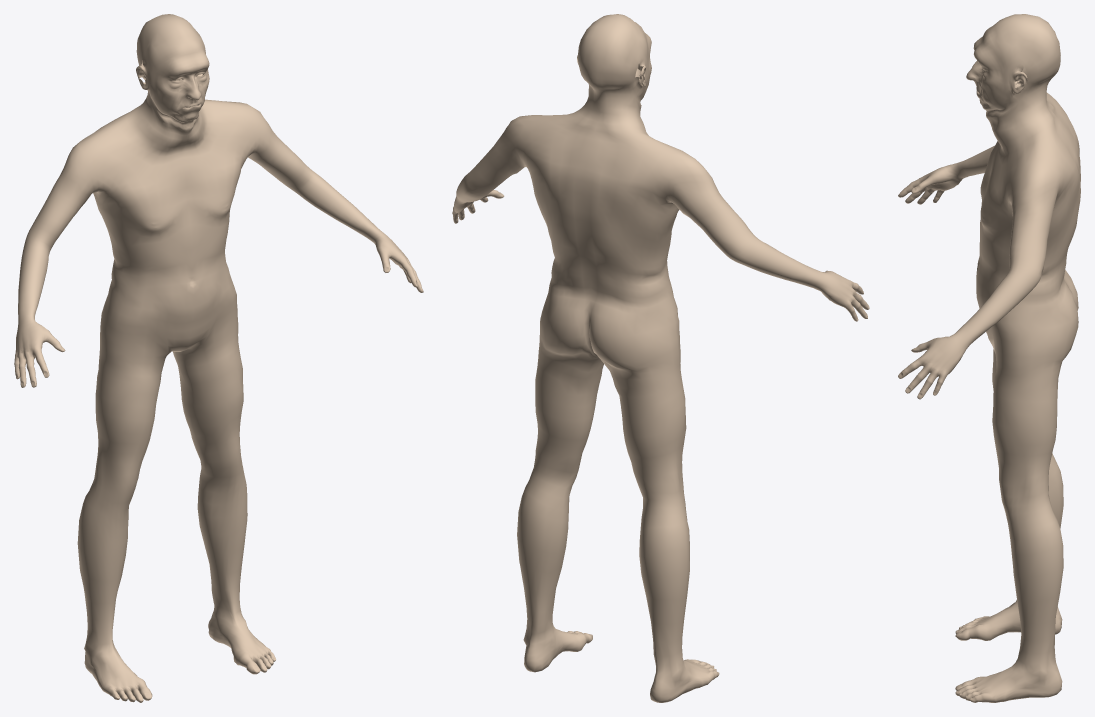
Rendered from old2090_body.fbx.
3 renders of one model, left to right at view 1: azimuth 30°, elevation 25°; view 2: azimuth 150°, elevation 25°; view 3: azimuth 270°, elevation 25°, orthographic.
Parts seen in each view (by area): view 1: Human; view 2: Human; view 3: Human.
Boxes of the visible parts, left/top/right/bottom form: Human: left=14, top=14, right=423, bottom=702; Human: left=452, top=14, right=869, bottom=702; Human: left=898, top=14, right=1080, bottom=702.
Bounding box in the file's own units: 116 × 179 × 45.73.
